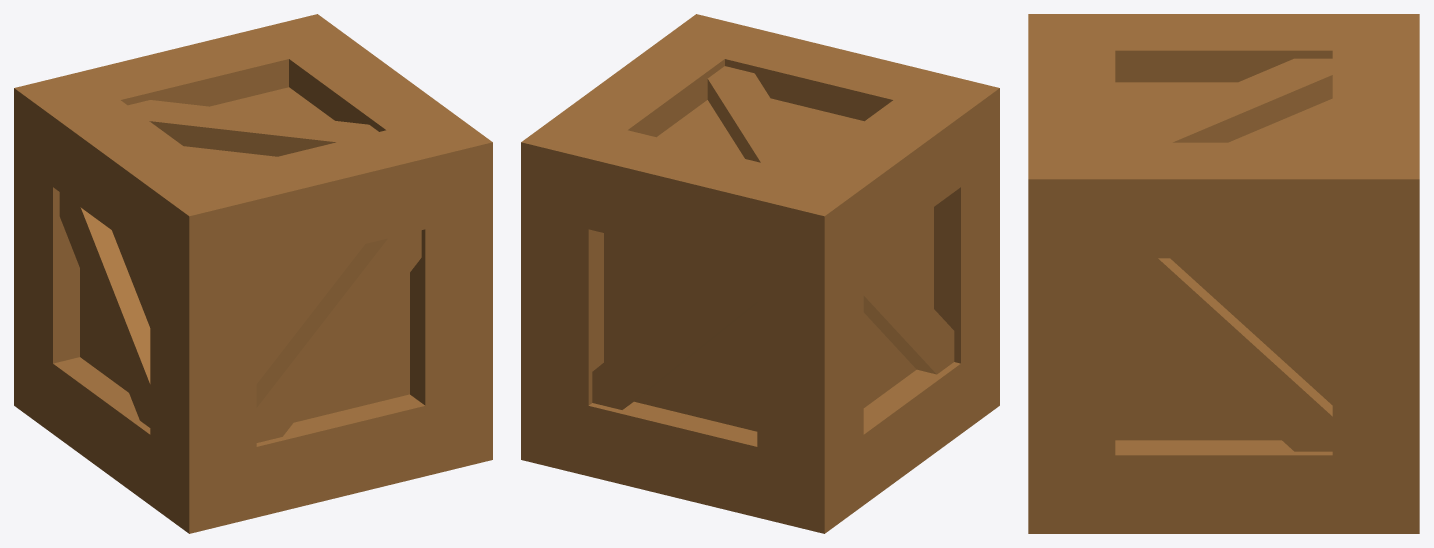
The model's file is pickup_box.fbx.
3 views of the same model, side by side, from view 1: azimuth 30°, elevation 25°; view 2: azimuth 150°, elevation 25°; view 3: azimuth 270°, elevation 25° (orthographic). The views are drawn at different scales.
Visible parts, largest first — view 1: pickup_box; view 2: pickup_box; view 3: pickup_box.
Part boxes in pixels (left/top/right/bottom): pickup_box: left=14, top=14, right=492, bottom=533; pickup_box: left=521, top=14, right=999, bottom=533; pickup_box: left=1028, top=14, right=1419, bottom=533.
Size of the model in its own units: 56.25 by 56.25 by 56.25.
